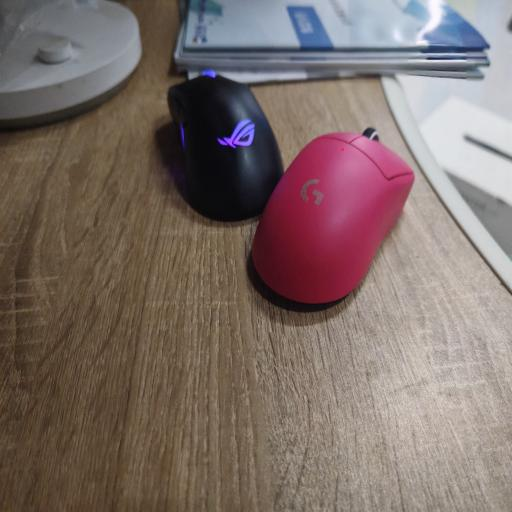mouse: (252, 129, 414, 303), (168, 71, 283, 221)
